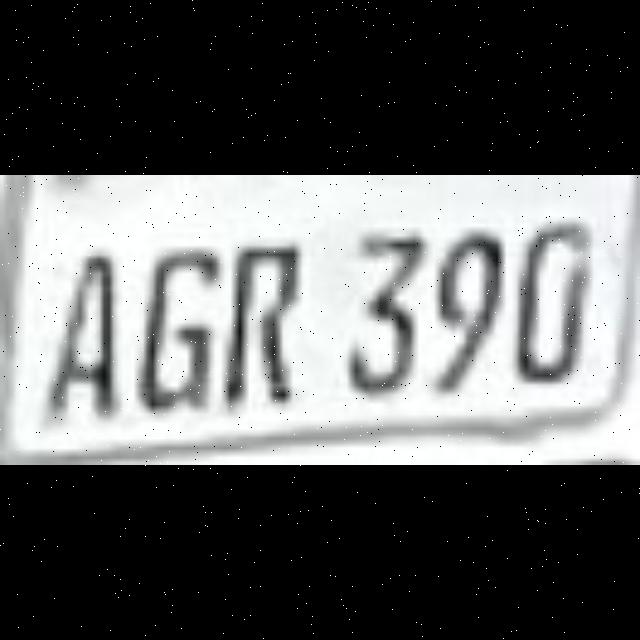0: (509, 228, 606, 418)
3: (318, 228, 414, 418)
9: (414, 228, 512, 418)
A: (30, 228, 126, 418)
G: (124, 228, 220, 418)
R: (220, 228, 318, 418)
